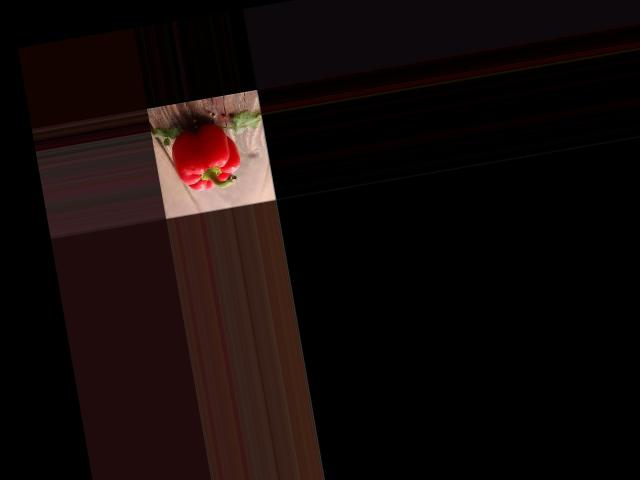bell_pepper: (163, 117, 248, 200)
